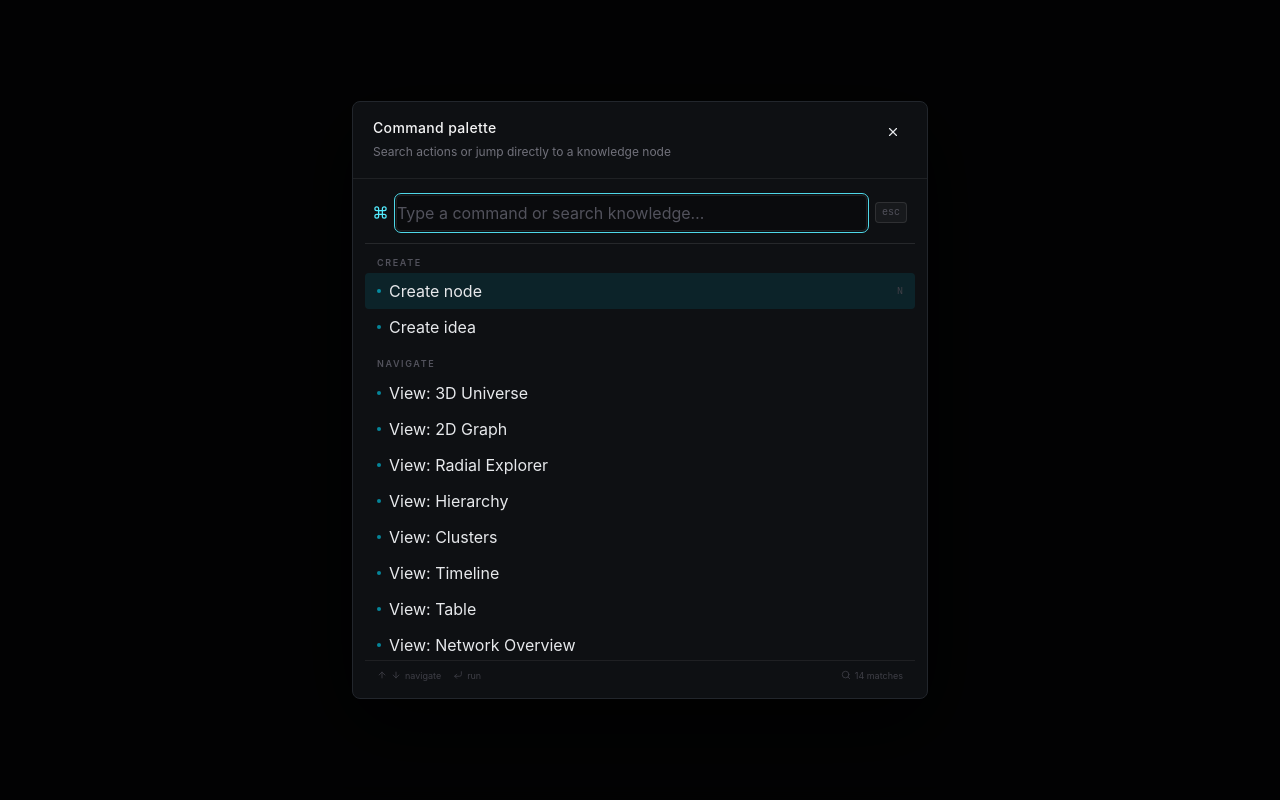
Test: CommandPalette › filters commands as the user types and reports no matches
The image size is (1280, 800).
Type "snapshot" into the field named "Command palette search". click: point(632, 212)
box: [396, 194, 867, 230]
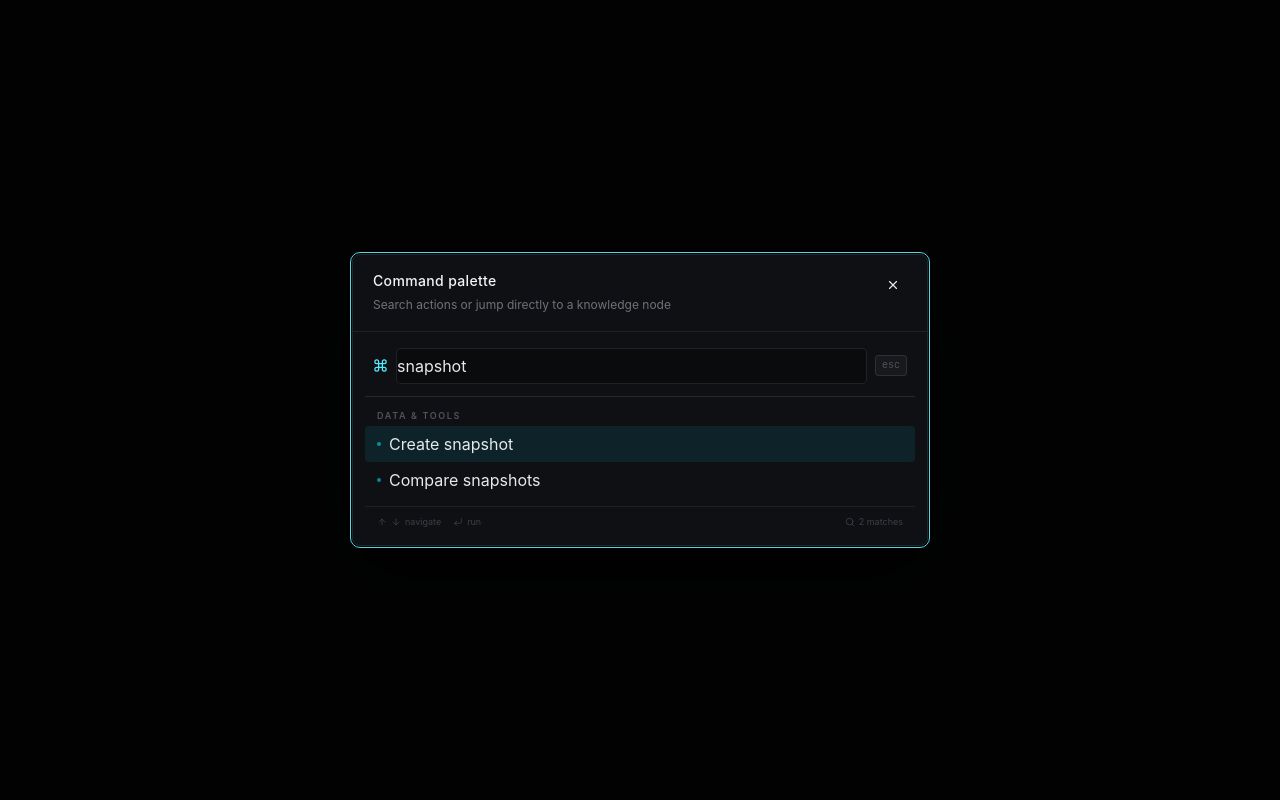
Expected: the button "Create snapshot" is shown, [365, 426, 915, 462]
Expected: the button "Create node" is gone
Replace the text in the field named "Command palette search" with "zzzzz". click: point(632, 366)
box: [396, 348, 867, 384]
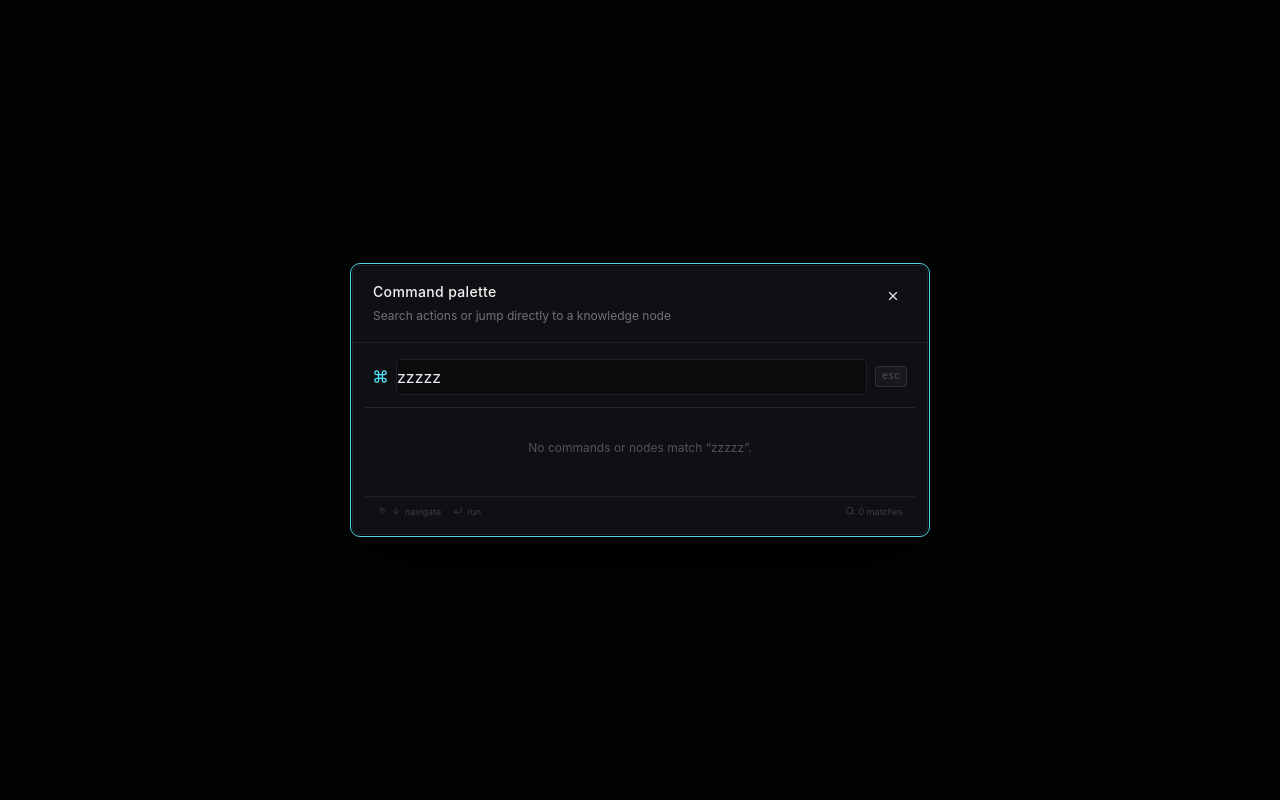
Expected: the text "No commands or nodes match “zzzzz”." is shown, [528, 440, 752, 454]
